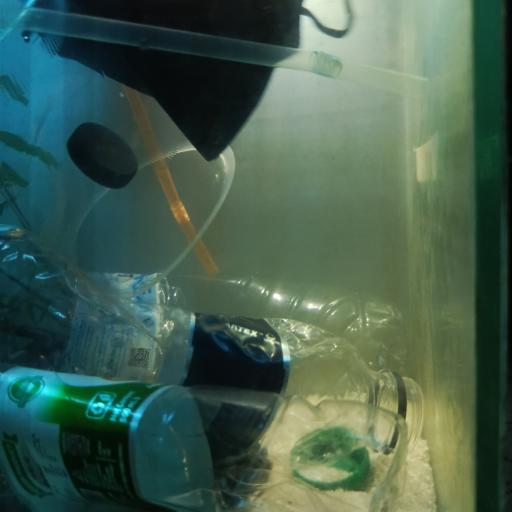bottle_cap: (66, 120, 138, 188), (291, 427, 372, 487)
mask: (30, 0, 355, 162)
plastic_bottle: (0, 224, 425, 458), (2, 365, 409, 512), (22, 270, 408, 392)
plastic_cup: (0, 0, 237, 303)
plastic_straw: (1, 1, 430, 97), (123, 80, 221, 275)
